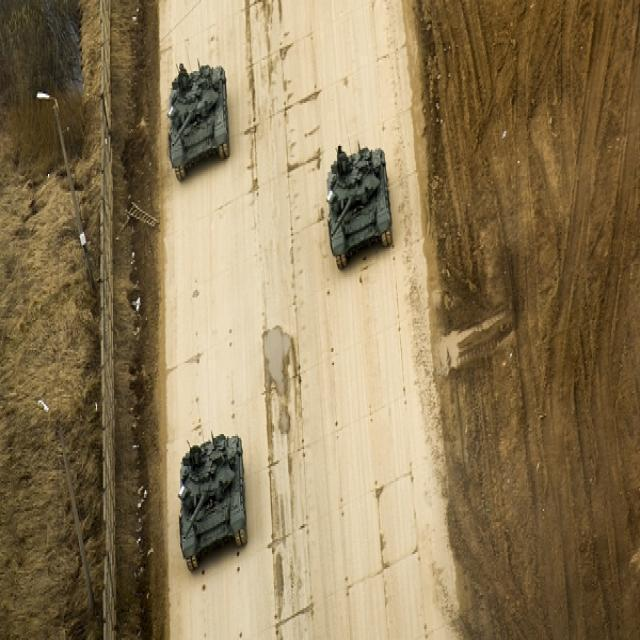Tanks: (176, 433, 249, 574), (324, 140, 397, 279), (165, 56, 232, 187)
